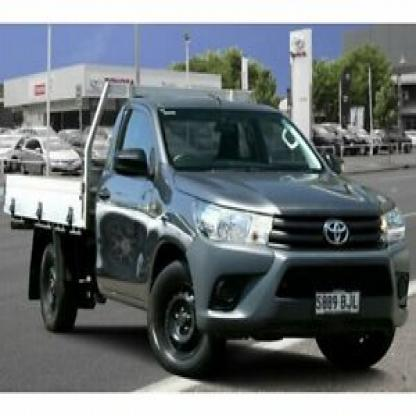light_vehicle: (7, 76, 415, 372)
